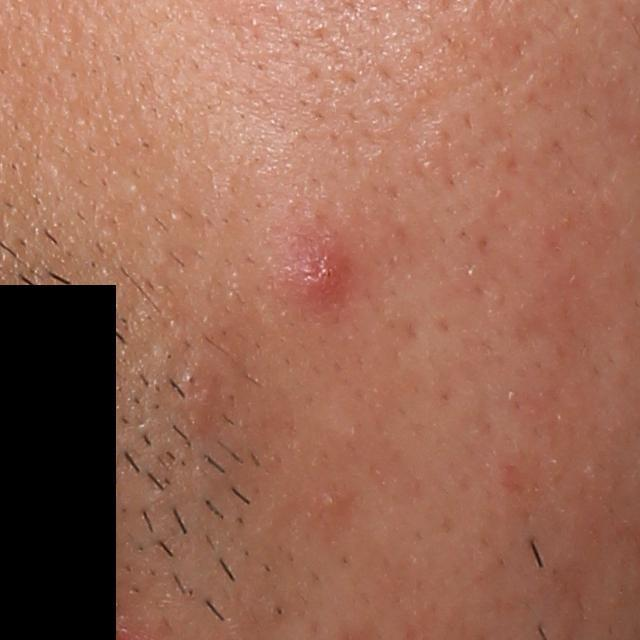papule: (269, 232, 360, 314)
